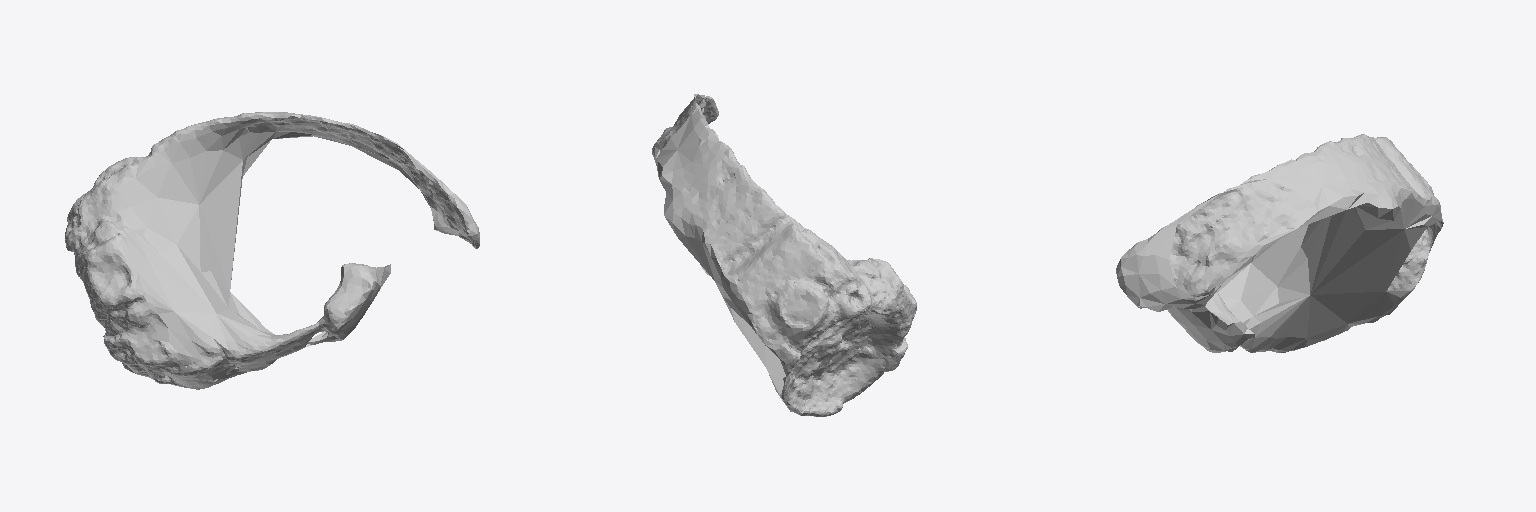
Rendered from Watch.obj.
The picture shows the model from 3 angles: view 1: azimuth 30°, elevation 25°; view 2: azimuth 150°, elevation 25°; view 3: azimuth 270°, elevation 25°; orthographic projection.
Visible parts, largest first — view 1: Mesh_0; view 2: Mesh_0; view 3: Mesh_0.
Part boxes in pixels (x1,y1,x2,y2): Mesh_0: (65,112,479,389); Mesh_0: (652,94,916,416); Mesh_0: (1116,134,1443,352).
Size of the model in its own units: 1.01 by 0.7652 by 0.9248.